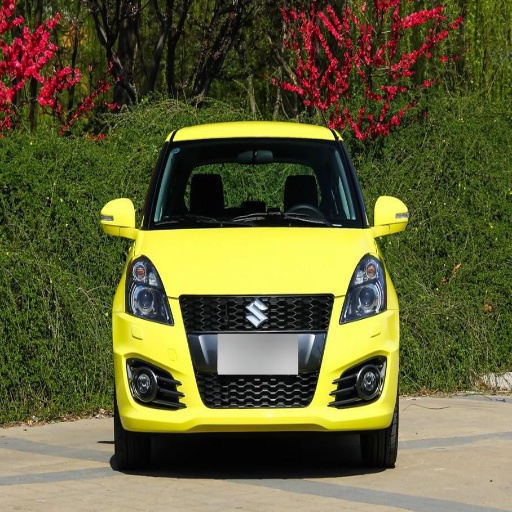front_bumper: (116, 290, 397, 430)
front_right_light: (123, 259, 174, 325)
hood: (142, 229, 358, 294)
left_mirror: (374, 196, 409, 236)
